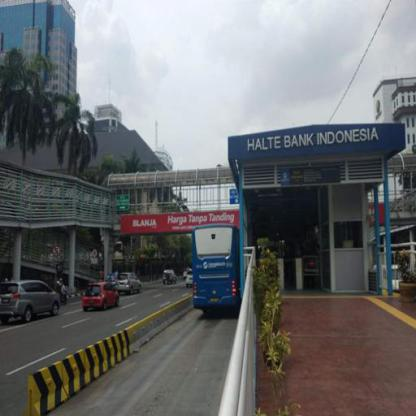bus: (191, 224, 240, 317)
car: (0, 279, 63, 325), (82, 284, 120, 312), (116, 274, 142, 296), (163, 269, 177, 285)
